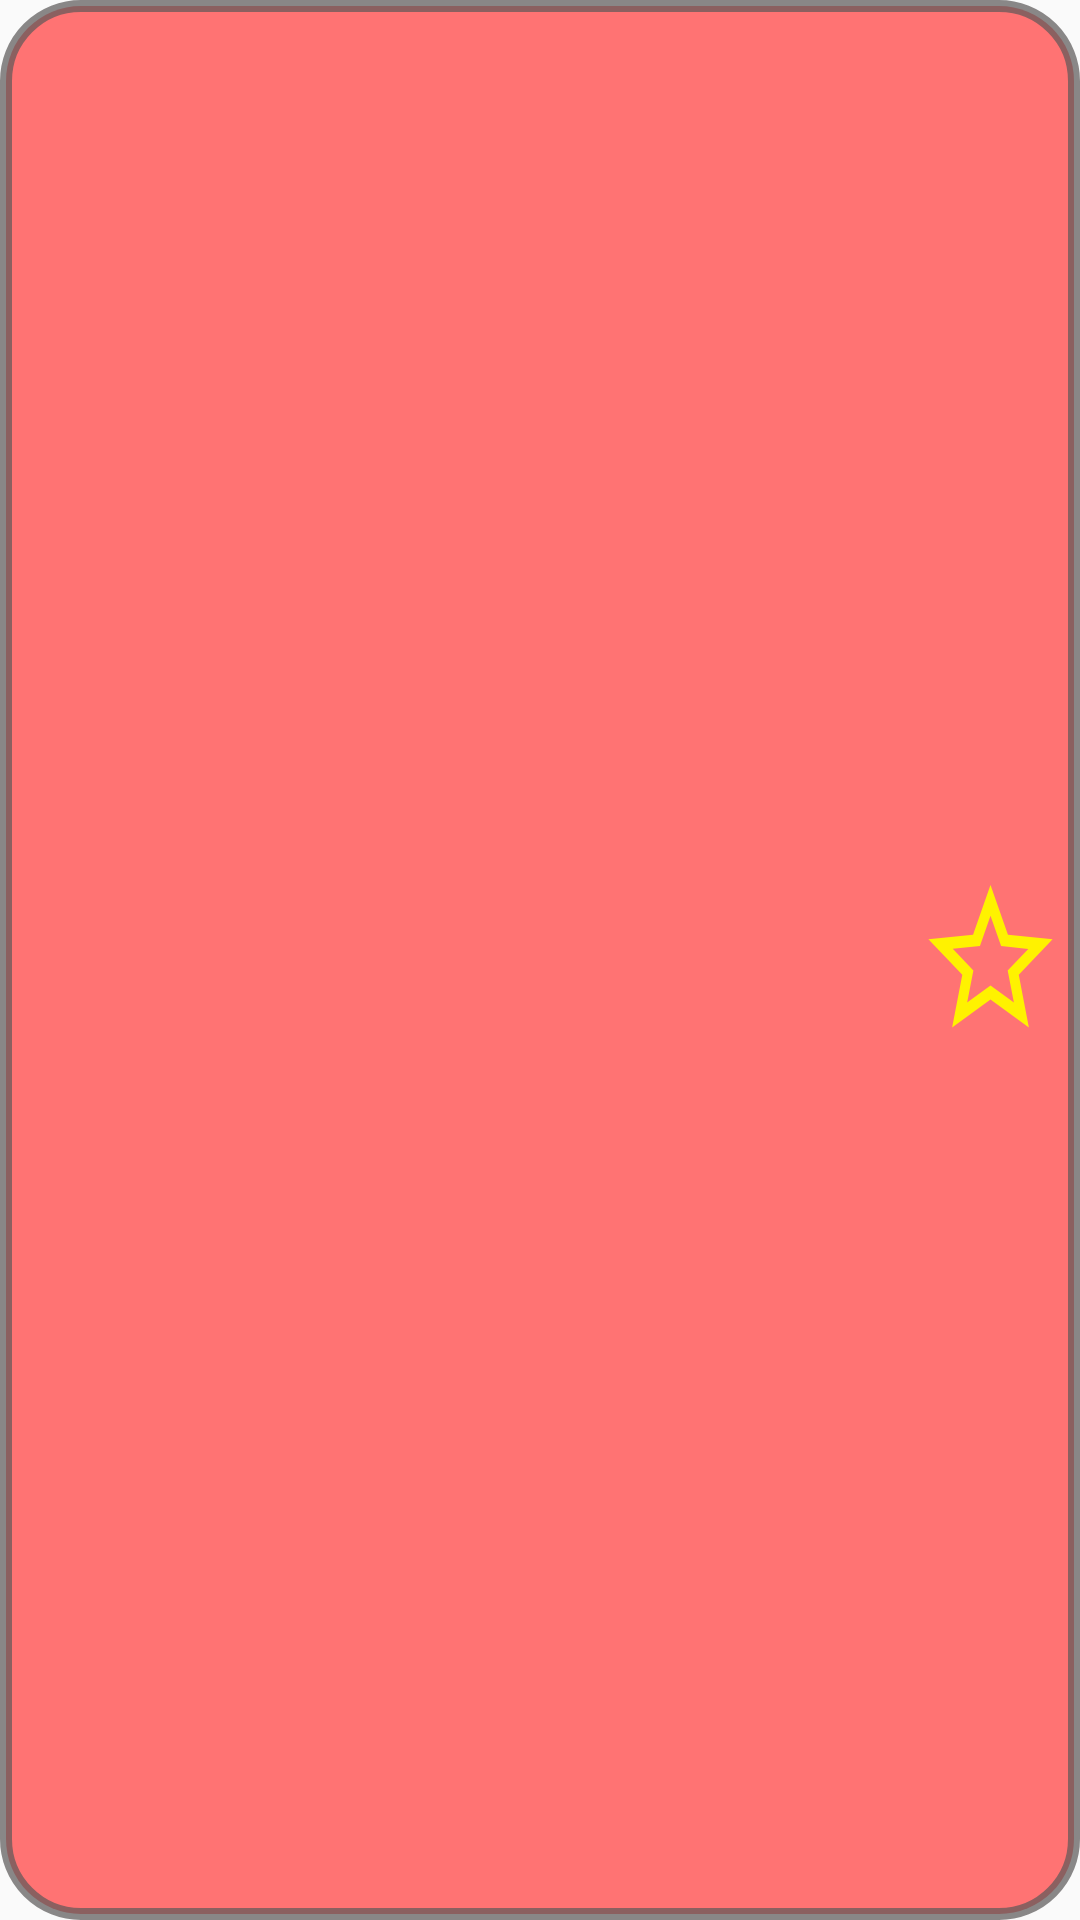

Named icons in this screenshot (1080*1920) and their centers, [x,y]:
empry star: [990,956]
